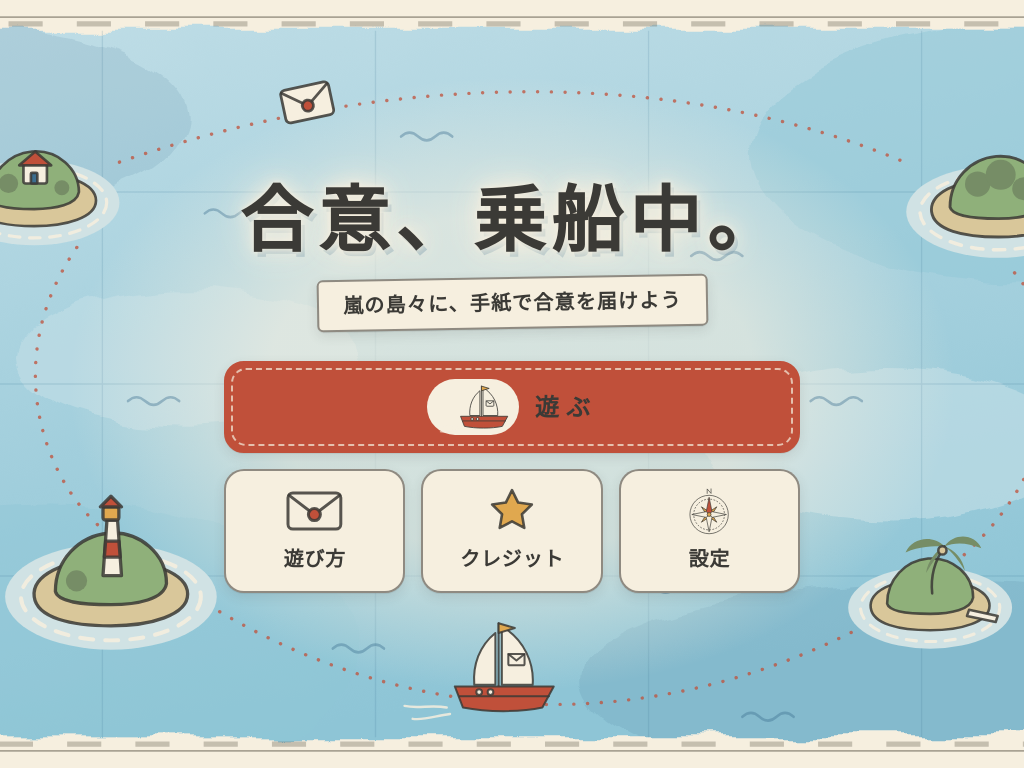
it: App › AP-5 読み込み中
What coordinates should you click on to do the following:
click the link "遊ぶ"
I would click on:
 (512, 407)
Its box is x1=224 y1=361 x2=800 y2=453.
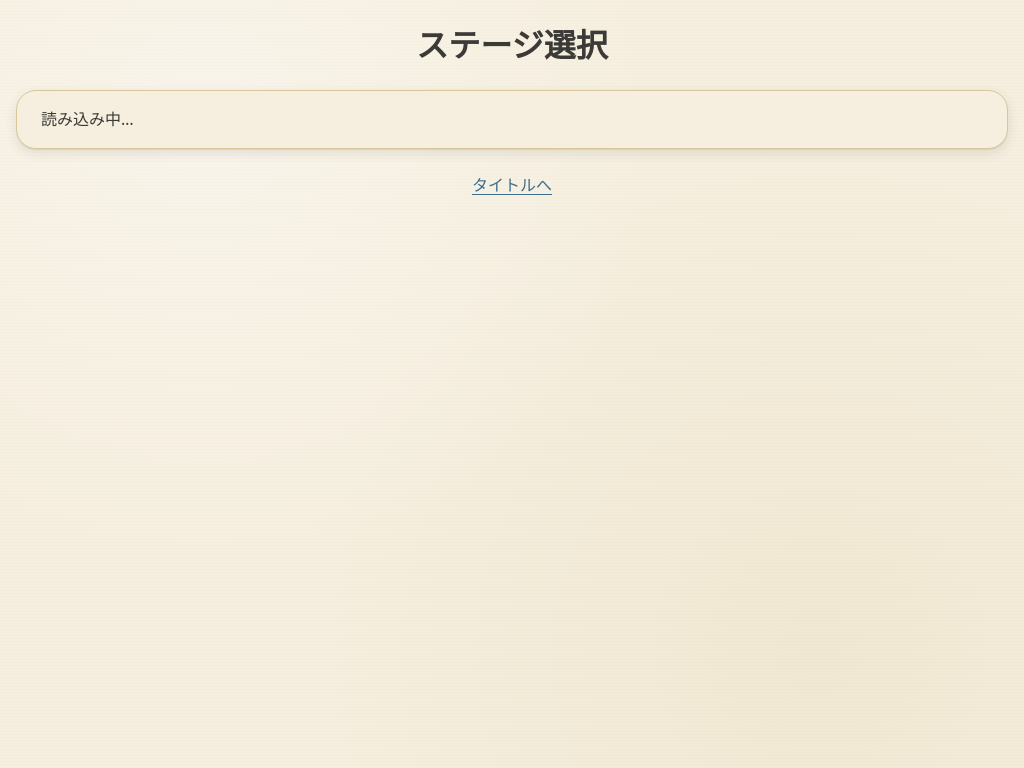
Expected: the text "読み込み中…" is shown, x1=16 y1=90 x2=1008 y2=149
